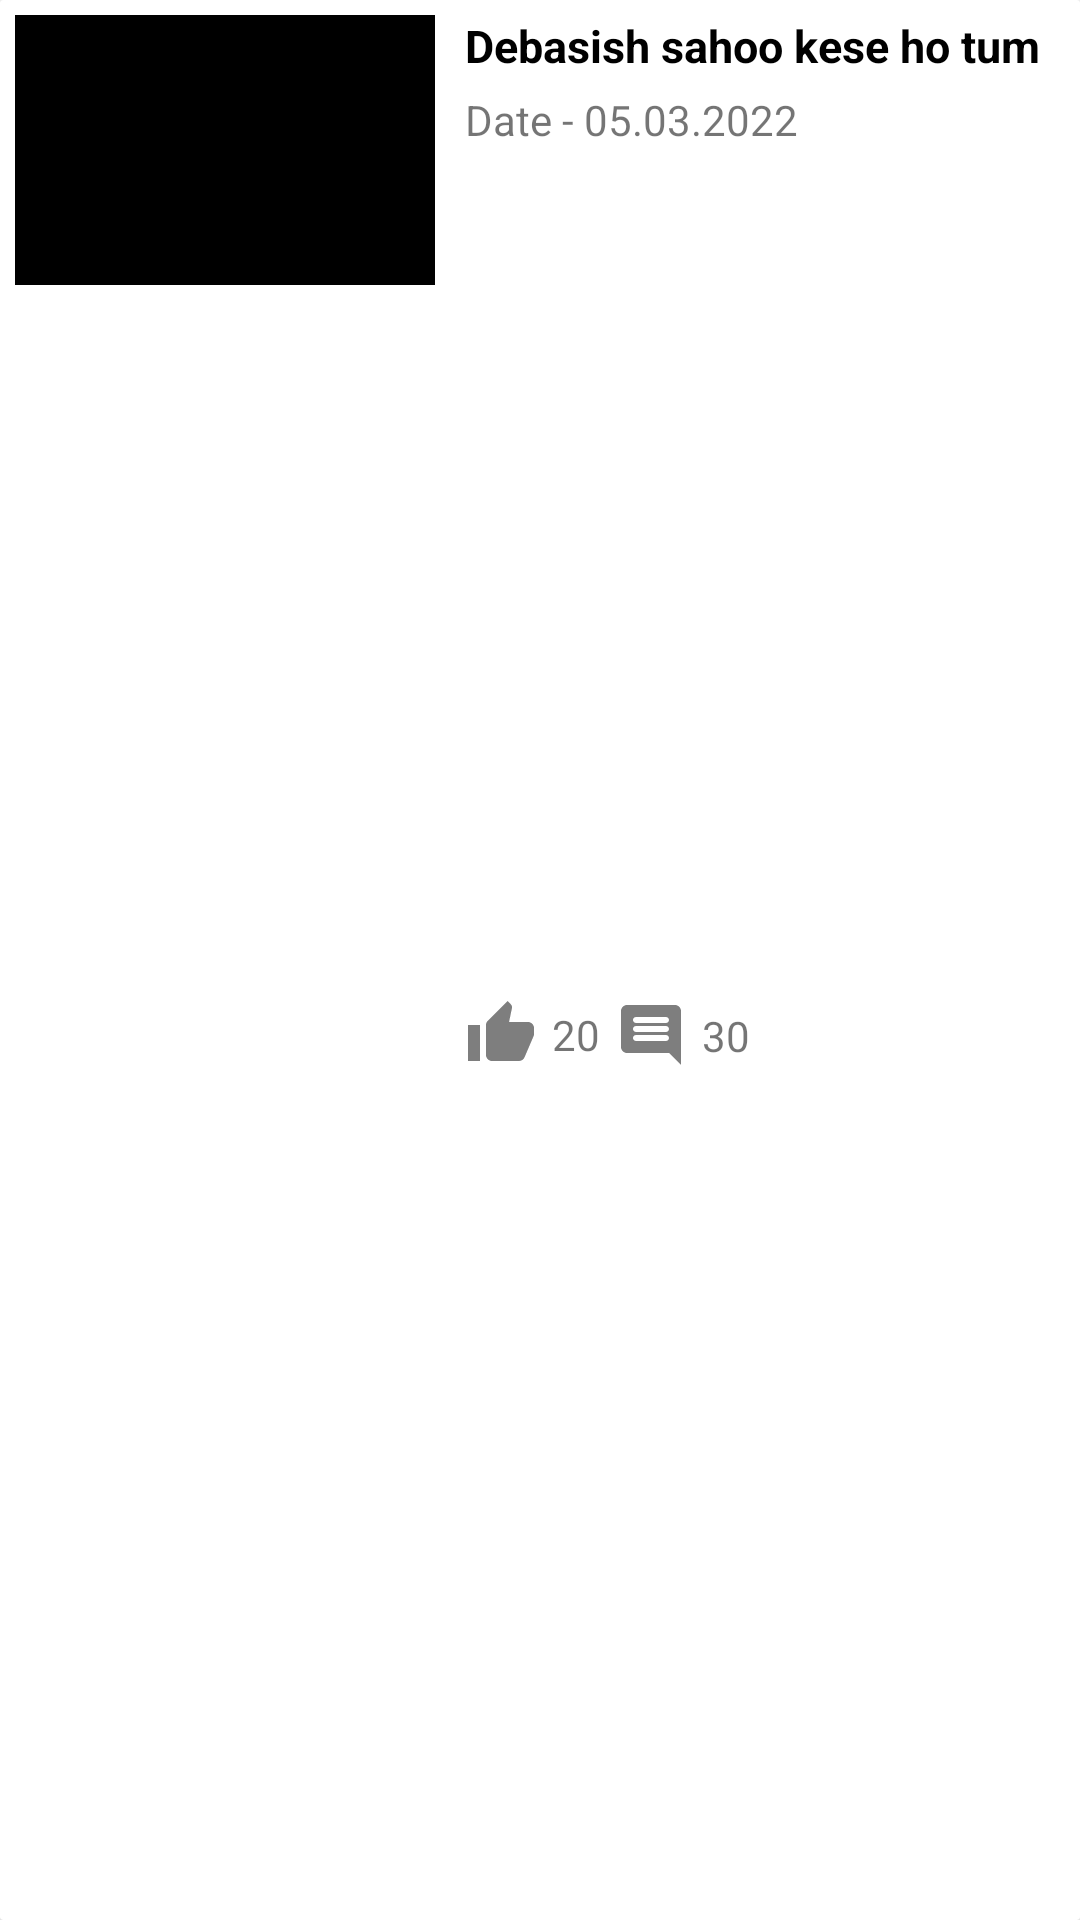

Where to tap for icons on this 1080w x 1920h app screen, as [x,y]:
comment: [651,1035]
like: [501,1031]
